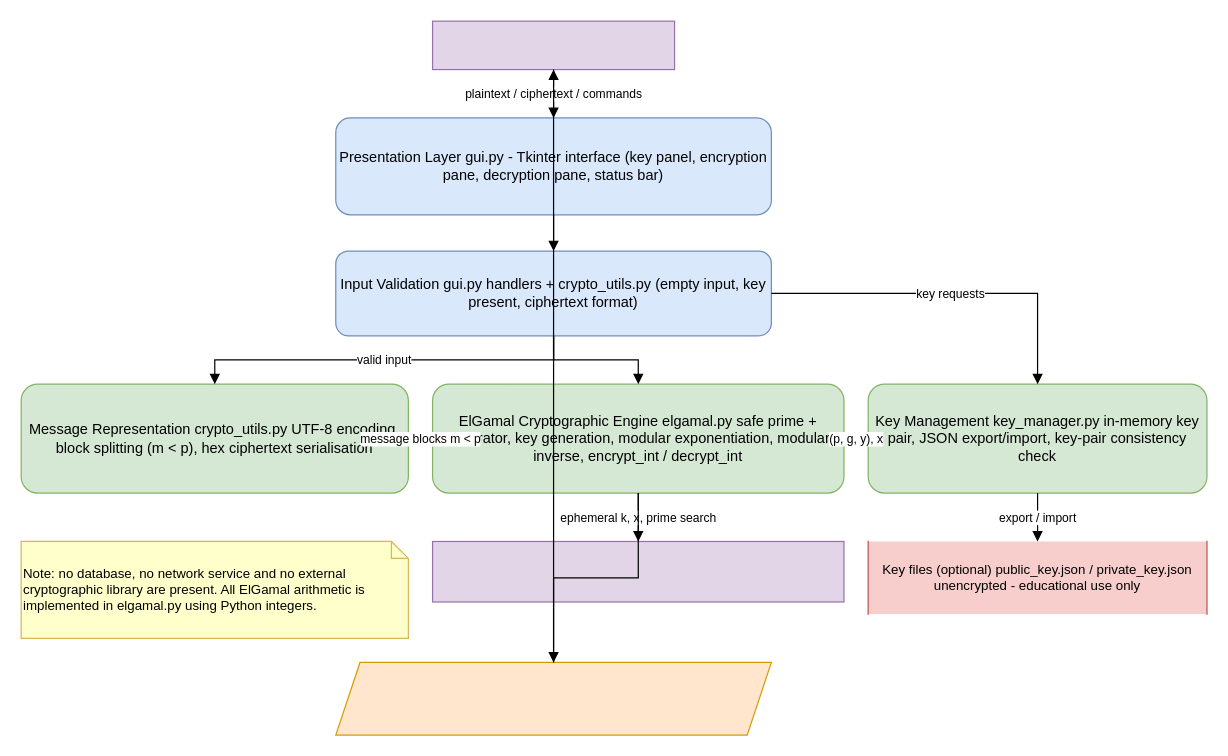
Some shapes in this 1228 by 756 pixel diagram are drawn without their labels. The box of each missing label's shape, as (x1, y1, x2, y2) in pixels:
Operating System CSPRNG Python 'secrets' module: (431, 540, 844, 602)
Output to user ciphertext, recovered plaintext, status and error messages: (335, 661, 771, 735)
User: (431, 20, 675, 70)
